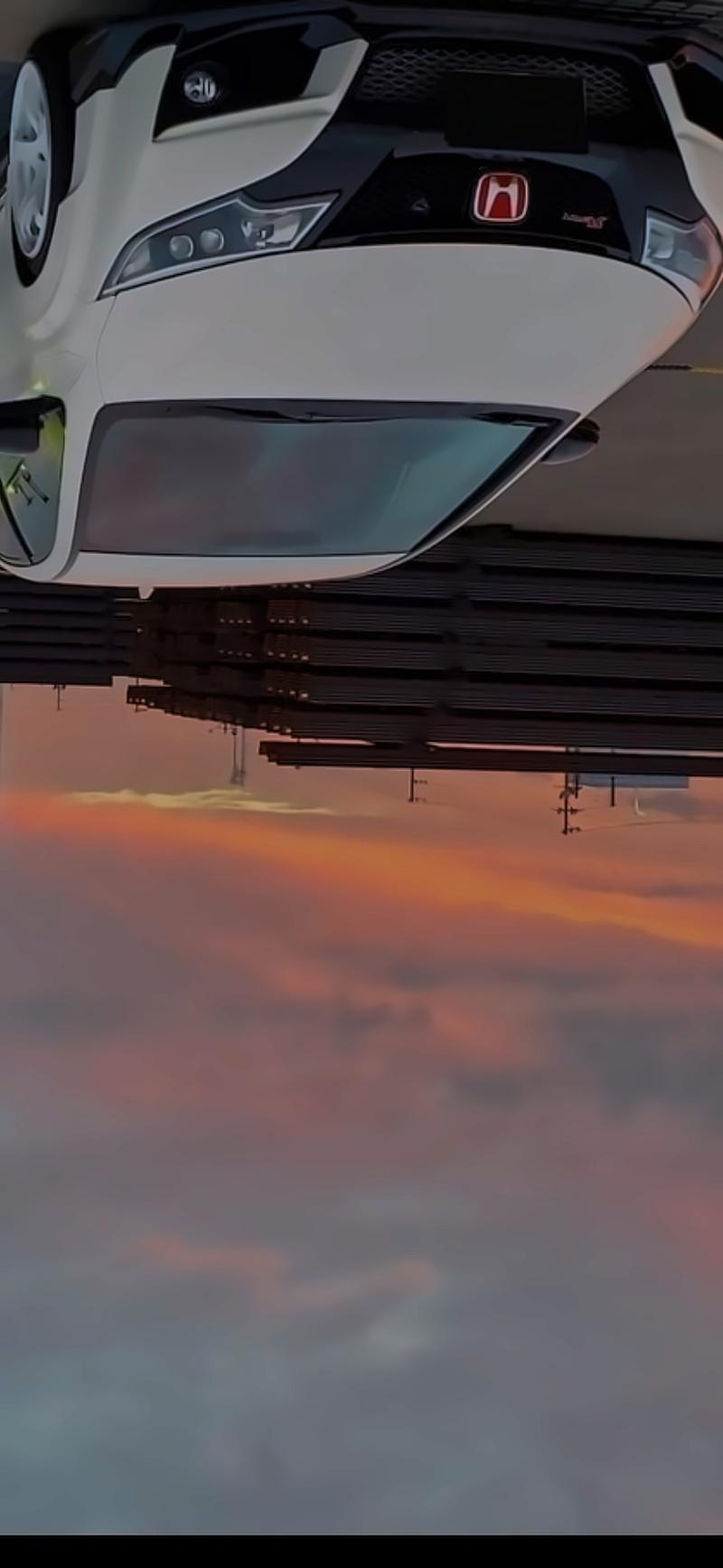Car hood: (89, 235, 699, 417)
Fender - -F-L-: (2, 160, 118, 397)
Front bumper: (60, 0, 723, 191)
Headlight - -L-: (85, 180, 348, 306)
Headlight - -R-: (634, 198, 723, 334)
Side mirror - -R-: (541, 410, 606, 480)
